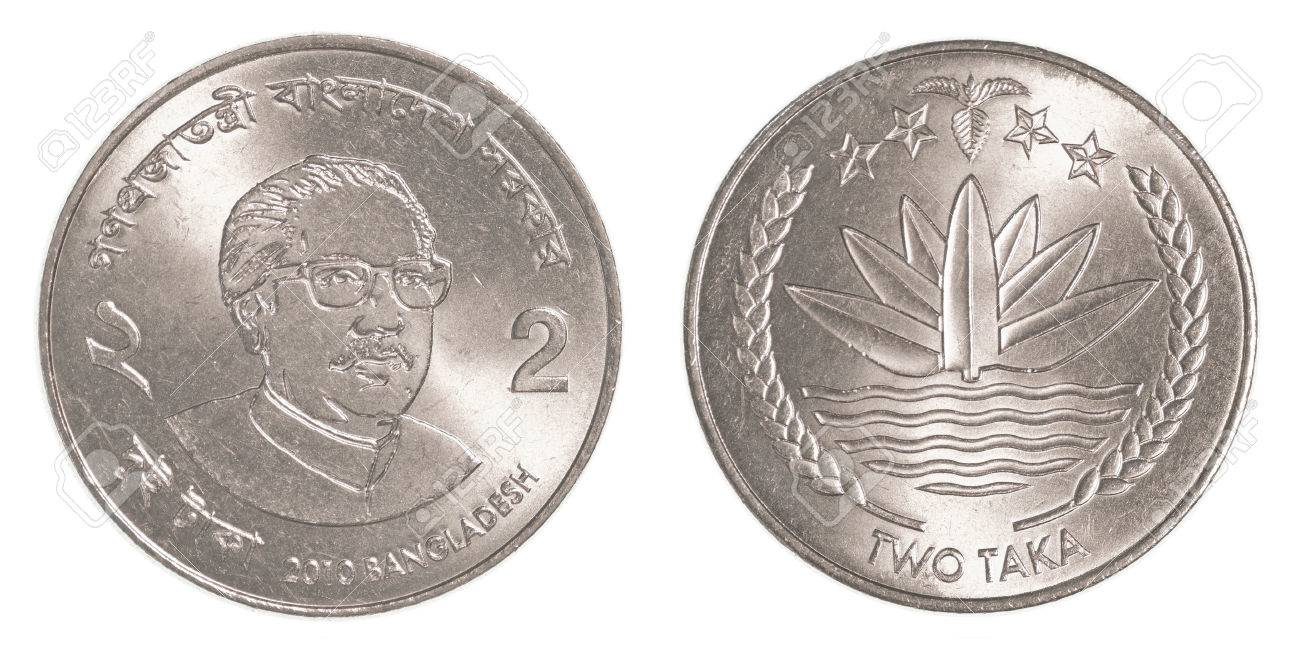5 taka coin: (42, 33, 625, 618), (682, 41, 1263, 617)
